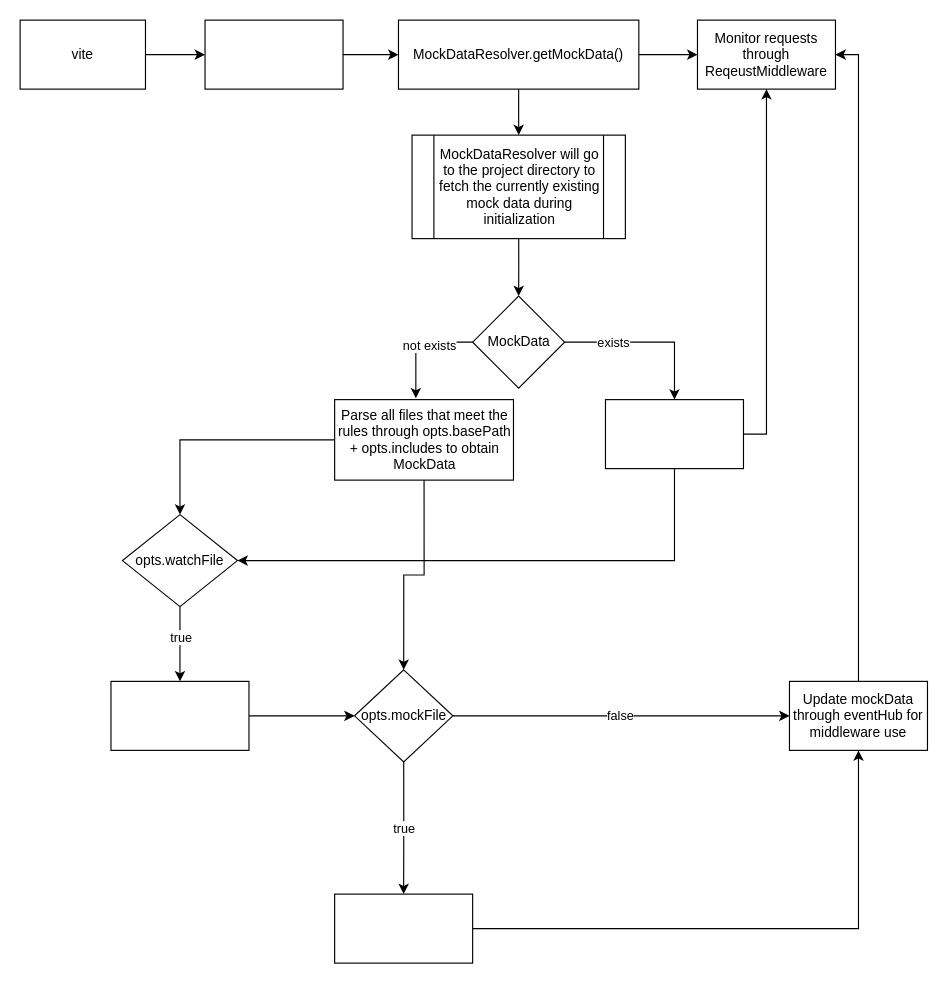
Some shapes in this 948 by 983 pixel diagram are drawn without their labels. Each missing label, with the centre of its shape:
Compare the changes through the structure: [179,715]
Generate mock.json and structure.json: [403,928]
use it: [673,433]
vite-plugin-faker: [273,54]
